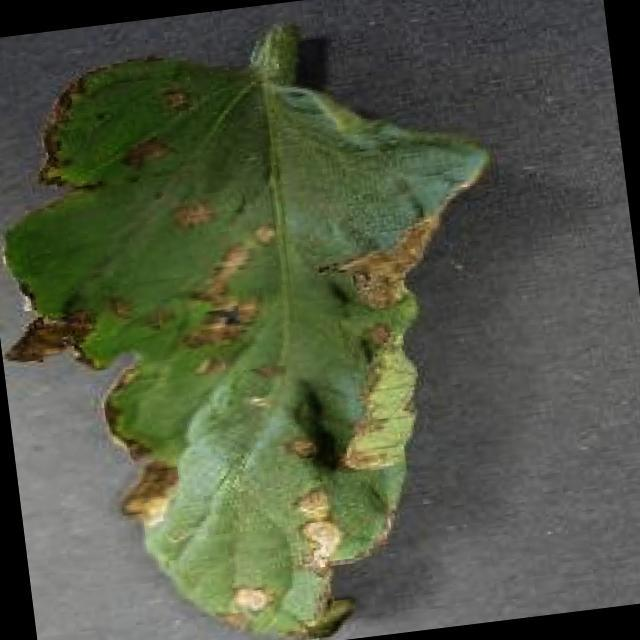Tomato bacterial spot leaf: (0, 8, 551, 640)
